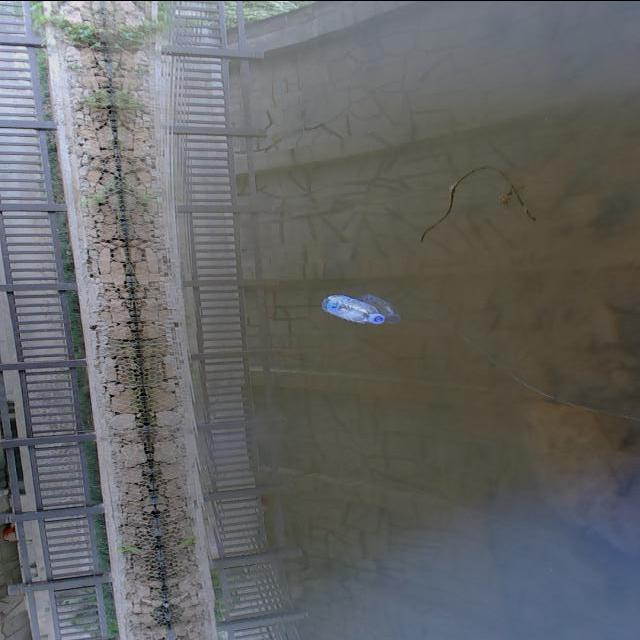bottle: (298, 282, 412, 331)
